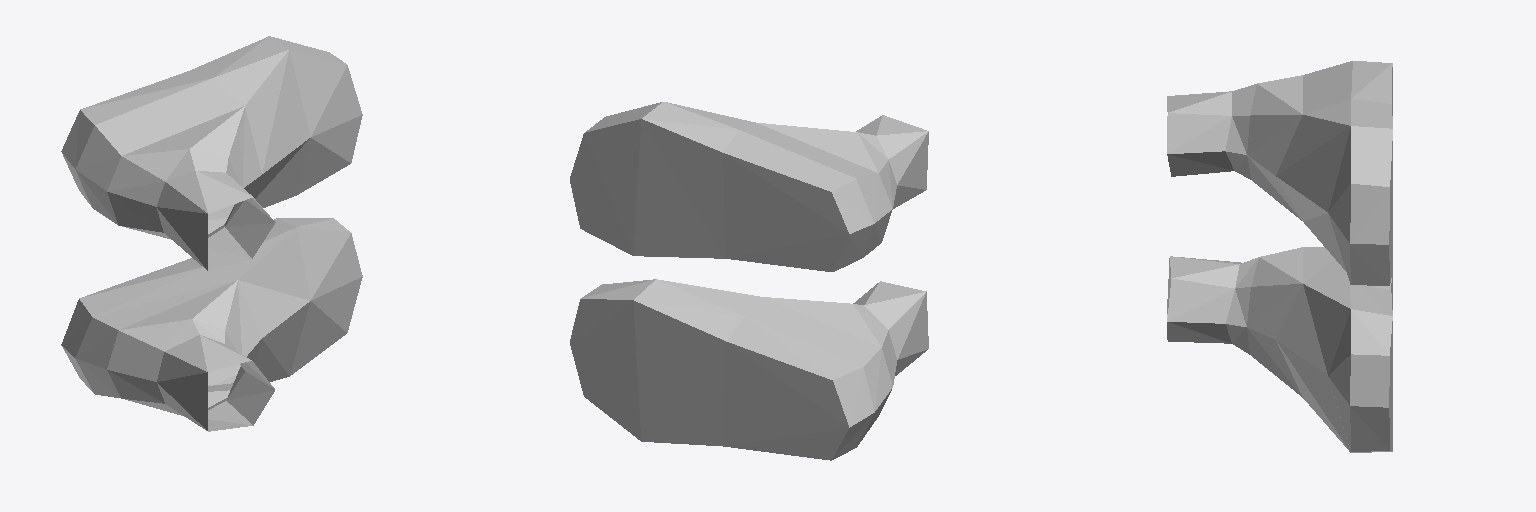
Rendered from 슬리퍼.obj.
3 views of the same model, side by side, from view 1: azimuth 30°, elevation 25°; view 2: azimuth 150°, elevation 25°; view 3: azimuth 270°, elevation 25° (orthographic).
Visible parts, largest first — view 1: vr_foot_000; view 2: vr_foot_000; view 3: vr_foot_000.
Part boxes in pixels (x1,y1,x2,y2): vr_foot_000: (61, 36, 362, 431); vr_foot_000: (570, 102, 928, 460); vr_foot_000: (1167, 61, 1392, 452).
Size of the model in its own units: 33.94 by 36.92 by 23.15.